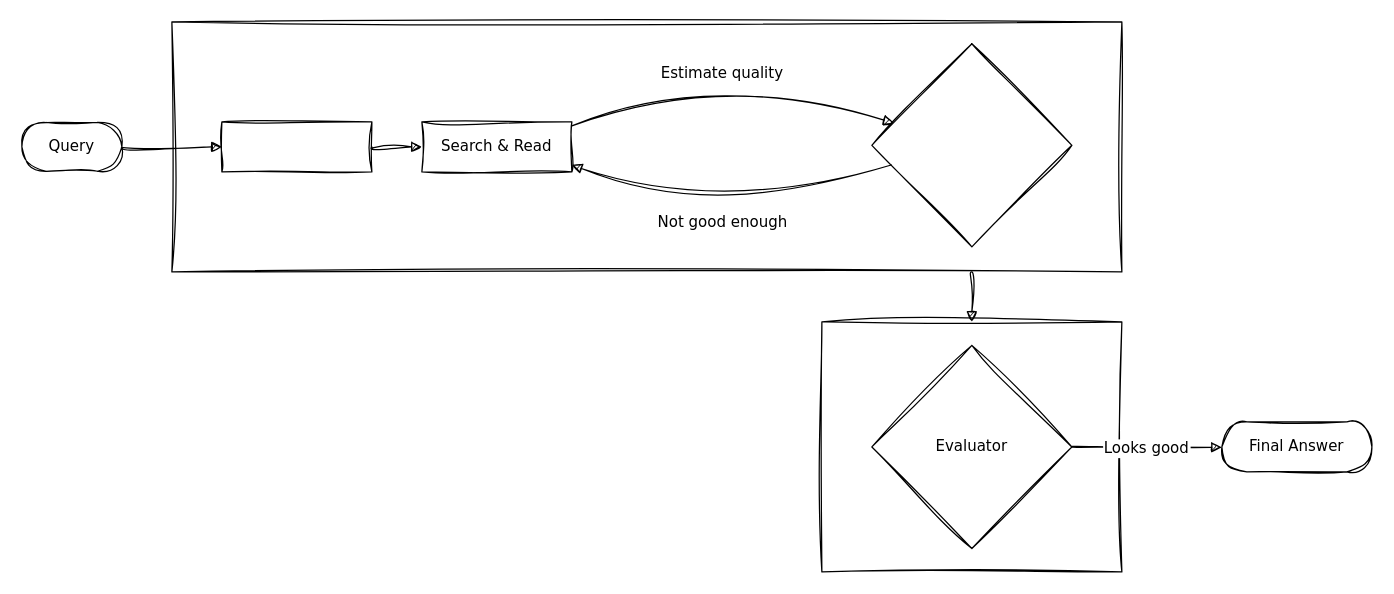
Some shapes in this 1394 by 594 pixel diagram are drawn without their labels. Each missing label, with the centre of its shape:
Reflector: point 971,144
Start Iteration: point 296,146
